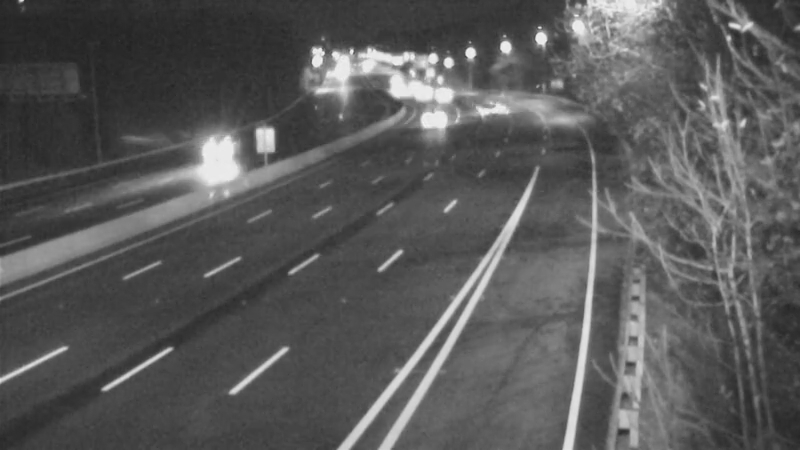vehicle: (193, 114, 273, 194), (419, 69, 469, 119), (463, 74, 513, 124), (412, 91, 462, 141)
